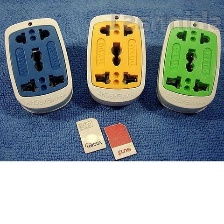three_eye_plug: (0, 12, 76, 116), (153, 17, 222, 116), (83, 8, 150, 109)
